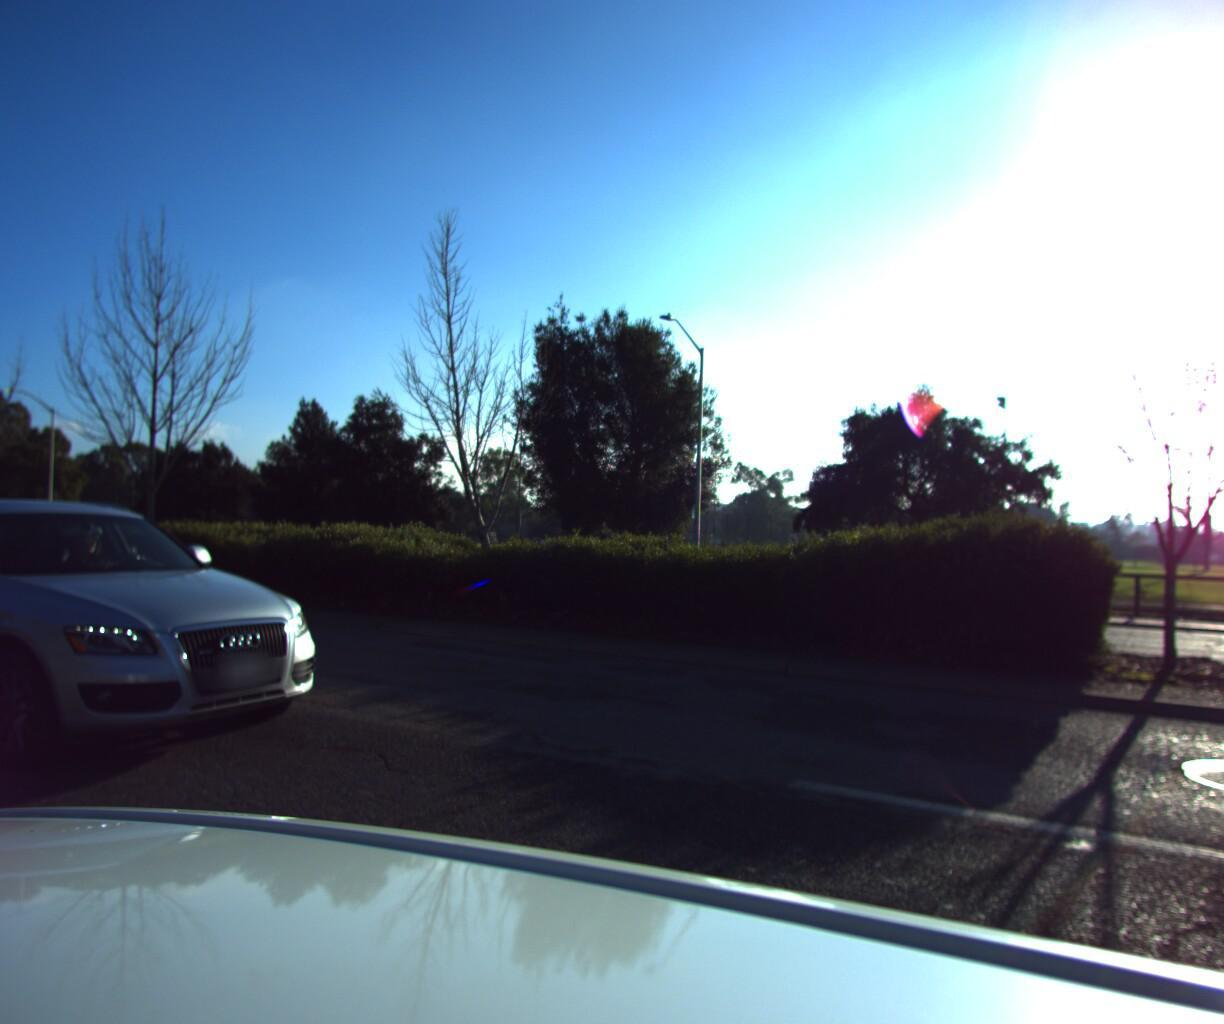car: (0, 488, 361, 814)
